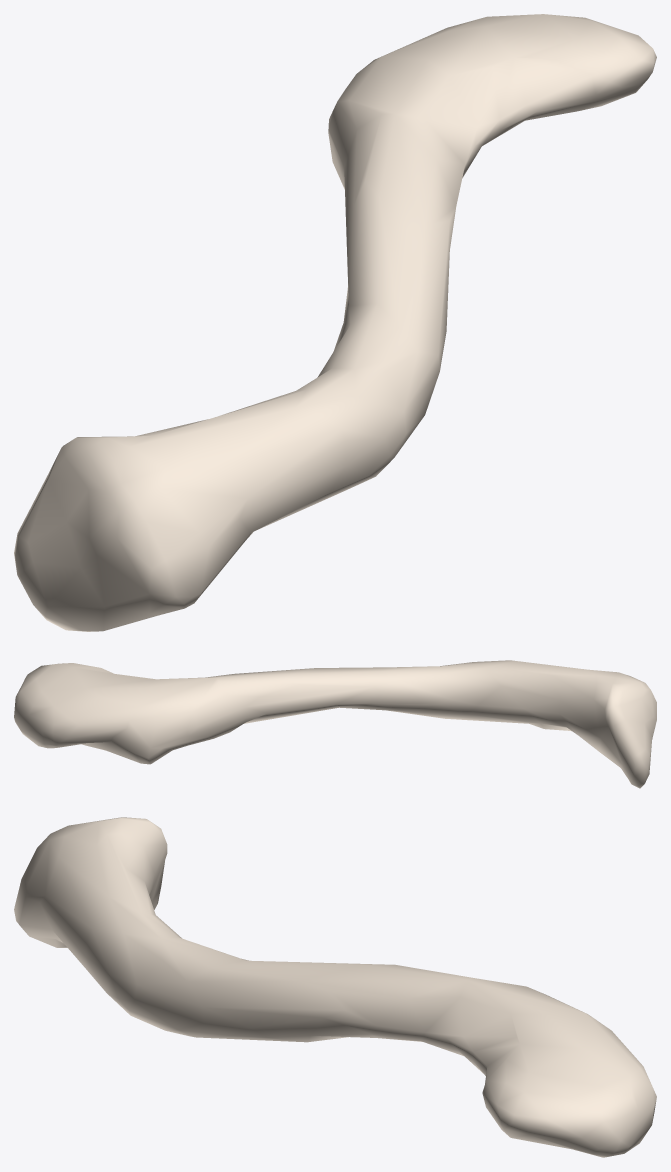
Rendered from left_clavicle.glb.
3 views of the same model, one above another, from view 1: azimuth 30°, elevation 25°; view 2: azimuth 150°, elevation 25°; view 3: azimuth 270°, elevation 25° (orthographic). The views are drawn at different scales.
Parts seen in each view (by area): view 1: Clavicle.r; view 2: Clavicle.r; view 3: Clavicle.r.
Boxes of the visible parts, x1,y1,x2,y2 form: Clavicle.r: [14, 14, 656, 631]; Clavicle.r: [14, 660, 656, 788]; Clavicle.r: [14, 817, 656, 1157].
Bounding box in the file's own units: 0.0797 × 0.0195 × 0.0629.
